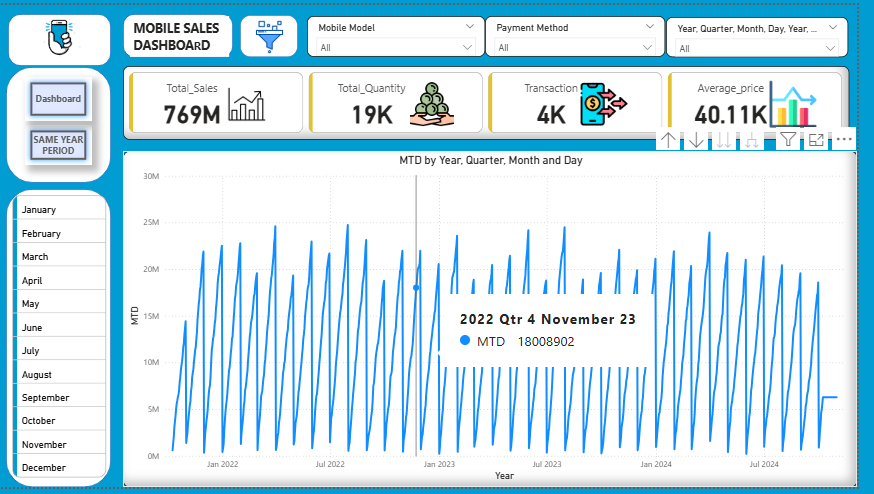

What the dashboard file says about the page in this screenshot:
{"tool":"powerbi","page":{"name":"MTD Report","canvas":[1280,720],"ordinal":1},"visuals":[{"type":"shape","box":[13.2,13.2,153.7,77.6],"z":0},{"type":"image","box":[20.5,8.8,137.6,83.4],"z":1000},{"type":"shape","box":[10.2,92.2,156.6,172.7],"z":2000},{"type":"cardVisual","fields":{"Data":["Sheet1.Total_Sales","Sheet1.Total_Quantity","Sheet1.Transaction","Sheet1.Average_price"]},"box":[184.4,90.7,1084.4,109.8],"z":3000},{"type":"slicer","fields":{"Values":["Sheet1.Mobile Model"]},"box":[459.5,16.1,266.3,61.5],"z":4000},{"type":"slicer","fields":{"Values":["Sheet1.Payment Method"]},"box":[725.9,16.1,269.3,61.5],"z":5000},{"type":"slicer","fields":{"Values":["custom data.Dates.Variation.Date Hierarchy.Year","custom data.Dates.Variation.Date Hierarchy.Quarter","custom data.Dates.Variation.Date Hierarchy.Month","custom data.Dates.Variation.Date Hierarchy.Day","custom data.Dates.Variation.Date Hierarchy.Year","custom data.Dates.Variation.Date Hierarchy.Quarter","custom data.Dates.Variation.Date Hierarchy.Month","custom data.Dates.Variation.Date Hierarchy.Day"]},"box":[995.1,17.6,272.2,60],"z":6000},{"type":"shape","box":[184.4,13.2,163.9,64.4],"z":7000},{"type":"textbox","box":[196.1,16.1,147.8,61.5],"z":8000},{"type":"shape","box":[360,14.6,86.3,62.9],"z":9000},{"type":"image","box":[348.3,17.6,111.2,60],"z":10000},{"type":"lineChart","fields":{"Y":["Sheet1.MTD"],"Category":["custom data.Dates.Variation.Date Hierarchy.Year","custom data.Dates.Variation.Date Hierarchy.Quarter","custom data.Dates.Variation.Date Hierarchy.Month","custom data.Dates.Variation.Date Hierarchy.Day"]},"box":[184.4,218,1096.1,502],"z":11000},{"type":"shape","box":[10.2,275.1,156.6,444.9],"z":12000},{"type":"advancedSlicerVisual","fields":{"Values":["custom data.Dates.Variation.Date Hierarchy.Month"]},"box":[14.6,279.5,150.7,440.5],"z":13000},{"type":"actionButton","box":[39.5,178.5,99.5,60],"z":14000},{"type":"actionButton","box":[39.5,106.8,99.5,65.9],"z":15000}]}

Visuals, with their boxes on the page's 1280x720 design canvas (x1, y1, x2, y2). These are canvas units, not pixel positions in the 874x494 screenshot, which may show the page scaled, cropped or inside an application window:
shape: pyautogui.locateOnScreen(13, 13, 167, 91)
image: pyautogui.locateOnScreen(20, 9, 158, 92)
shape: pyautogui.locateOnScreen(10, 92, 167, 265)
cardVisual - Sheet1.Total_Sales x Sheet1.Total_Quantity: pyautogui.locateOnScreen(184, 91, 1269, 200)
slicer - Sheet1.Mobile Model: pyautogui.locateOnScreen(460, 16, 726, 78)
slicer - Sheet1.Payment Method: pyautogui.locateOnScreen(726, 16, 995, 78)
slicer - custom data.Dates.Variation.Date Hierarchy.Year x custom data.Dates.Variation.Date Hierarchy.Quarter: pyautogui.locateOnScreen(995, 18, 1267, 78)
shape: pyautogui.locateOnScreen(184, 13, 348, 78)
textbox: pyautogui.locateOnScreen(196, 16, 344, 78)
shape: pyautogui.locateOnScreen(360, 15, 446, 78)
image: pyautogui.locateOnScreen(348, 18, 460, 78)
lineChart - Sheet1.MTD x custom data.Dates.Variation.Date Hierarchy.Year: pyautogui.locateOnScreen(184, 218, 1280, 720)
shape: pyautogui.locateOnScreen(10, 275, 167, 720)
advancedSlicerVisual - custom data.Dates.Variation.Date Hierarchy.Month: pyautogui.locateOnScreen(15, 280, 165, 720)
actionButton: pyautogui.locateOnScreen(40, 178, 139, 238)
actionButton: pyautogui.locateOnScreen(40, 107, 139, 173)
